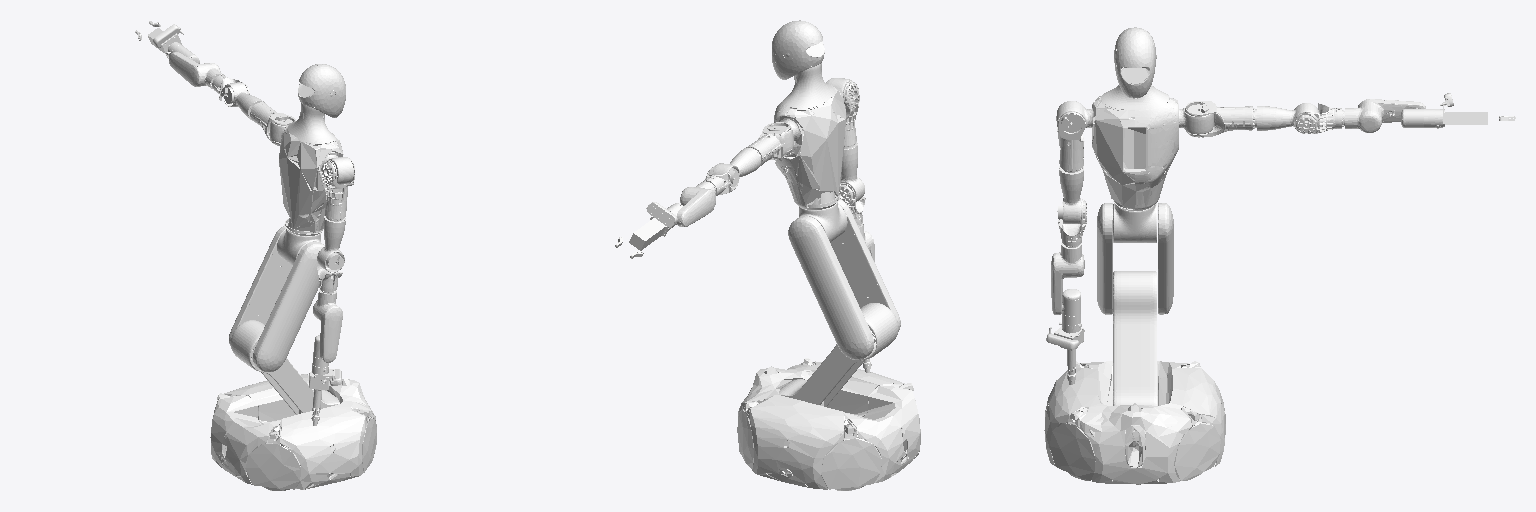
--- Render facts (derived) ---
3 views of the same robot in one strip: view 1: azimuth 30°, elevation 25°; view 2: azimuth 150°, elevation 25°; view 3: azimuth 270°, elevation 25° (orthographic).
Robot: galbot_one — 51 links, 50 joints (8 revolute, 4 prismatic, 38 fixed); root link mobile_base; default pose: all joints at 0 but 2 set to mid-range because 0 is outside their limits (left_gripper_left_joint = 0.0275, left_gripper_right_joint = 0.0275).
Links seen in each view (by area): view 1: omni_chassis_base_link, leg_link2, torso_base_link, leg_link1, head_link2, right_arm_link5, right_arm_link2, right_arm_link3, left_arm_link5, left_arm_link3, leg_link3, left_arm_link2; view 2: omni_chassis_base_link, leg_link2, torso_base_link, leg_link1, head_link2, left_arm_link5, left_arm_link2, left_arm_link3, leg_link3, right_arm_link2, right_arm_link3, left_gripper_base_link (+1 smaller); view 3: omni_chassis_base_link, torso_base_link, leg_link1, leg_link2, head_link2, left_arm_link5, leg_link3, right_arm_link5, left_arm_link2, right_arm_link3, right_arm_link2, left_arm_link3 (+5 smaller).
Link boxes in pixels (<box>): omni_chassis_base_link: <box>210,373,376,490</box>; leg_link2: <box>229,226,324,371</box>; torso_base_link: <box>279,103,343,232</box>; leg_link1: <box>231,320,339,414</box>; head_link2: <box>298,64,345,117</box>; right_arm_link5: <box>313,289,342,362</box>; right_arm_link2: <box>322,158,354,221</box>; right_arm_link3: <box>317,216,345,272</box>; left_arm_link5: <box>169,52,224,89</box>; left_arm_link3: <box>221,82,264,119</box>; leg_link3: <box>277,229,321,265</box>; left_arm_link2: <box>250,102,295,145</box>; omni_chassis_base_link: <box>737,358,920,490</box>; leg_link2: <box>788,199,900,359</box>; torso_base_link: <box>774,63,845,207</box>; leg_link1: <box>779,303,898,406</box>; head_link2: <box>772,20,824,79</box>; left_arm_link5: <box>677,181,715,226</box>; left_arm_link2: <box>746,122,791,165</box>; left_arm_link3: <box>712,148,760,190</box>; leg_link3: <box>799,199,847,242</box>; right_arm_link2: <box>826,79,859,148</box>; right_arm_link3: <box>840,142,864,201</box>; left_gripper_base_link: <box>629,218,665,250</box>; omni_chassis_base_link: <box>1044,361,1225,484</box>; torso_base_link: <box>1092,85,1178,209</box>; leg_link1: <box>1113,271,1156,449</box>; leg_link2: <box>1097,203,1173,314</box>; head_link2: <box>1114,27,1156,98</box>; left_arm_link5: <box>1345,99,1425,132</box>; leg_link3: <box>1113,203,1156,242</box>; right_arm_link5: <box>1051,243,1084,314</box>; left_arm_link2: <box>1185,101,1256,137</box>; right_arm_link3: <box>1057,166,1083,223</box>; right_arm_link2: <box>1057,112,1084,172</box>; left_arm_link3: <box>1257,103,1319,131</box>.
Bounding box of the posed robot: 0.5907 × 1.53 × 1.58 m (x, y, z).
Meshes: 32 distinct files referenced, 34 mesh visuals loaded (32 binary STL).

URDF robot description (galbot_one):
<?xml version="1.0" ?>
<!-- =================================================================================== -->
<!-- |    This document was autogenerated by xacro from urdf/galbot_one/galbot_one.xacro | -->
<!-- |    EDITING THIS FILE BY HAND IS NOT RECOMMENDED                                 | -->
<!-- =================================================================================== -->
<!-- 
#####################################################################################
#
# Copyright (c) 2023-2024 Galbot, Inc. All lefts Reserved.
#
# This software contains confidential and proprietary information of Galbot, Inc.
# ("Confidential Information"). You shall not disclose such Confidential Information
# and shall use it only in accordance with the terms of the license agreement you
# entered into with Galbot, Inc.
#
# UNAUTHORIZED COPYING, USE, OR DISTRIBUTION OF THIS SOFTWARE, OR ANY PORTION OR
# DERIVATIVE THEREOF, IS STRICTLY PROHIBITED. IF YOU HAVE RECEIVED THIS SOFTWARE IN
# ERROR, PLEASE NOTIFY GALBOT, INC. IMMEDIATELY AND DELETE IT FROM YOUR SYSTEM.
#
#####################################################################################
#
# Description: Xacro file for Galbot One.
# Author: Herman Ye@Galbot, Yuhao Zeng@Galbot
#
#####################################################################################
-->
<robot name="galbot_one">
    <!-- ROBOT -->
    <!-- Robot Base Link -->

    <link name="mobile_base">
        <!--        <inertial>-->
        <!--            <mass value="0"/>-->
        <!--            <inertia ixx="0" ixy="0" ixz="0" iyy="0" iyz="0" izz="0"/>-->
        <!--        </inertial>-->
    </link>
    <link name="base_link_x">
        <!--        <inertial>-->
        <!--            <mass value="0"/>-->
        <!--            <inertia ixx="0" ixy="0" ixz="0" iyy="0" iyz="0" izz="0"/>-->
        <!--        </inertial>-->
    </link>
    <link name="base_link_y">
        <!--        <inertial>-->
        <!--            <mass value="0"/>-->
        <!--            <inertia ixx="0" ixy="0" ixz="0" iyy="0" iyz="0" izz="0"/>-->
        <!--        </inertial>-->
    </link>
    <link name="base_link_z">
        <!--        <inertial>-->
        <!--            <mass value="0"/>-->
        <!--            <inertia ixx="0" ixy="0" ixz="0" iyy="0" iyz="0" izz="0"/>-->
        <!--        </inertial>-->
    </link>
    <joint name="mobile_x" type="prismatic">
        <origin rpy="0 0 0.0" xyz="0 0 0.0"/>
        <parent link="mobile_base"/>
        <child link="base_link_x"/>
        <axis xyz="1 0 0"/>
        <dynamics damping="10.0"/>
        <limit effort="80" lower="-5.0" upper="5.0" velocity="0.01"/>
    </joint>
    <joint name="mobile_y" type="prismatic">
        <origin rpy="0 0 0.0" xyz="0 0 0.0"/>
        <parent link="base_link_x"/>
        <child link="base_link_y"/>
        <axis xyz="0 1 0"/>
        <dynamics damping="10.0"/>
        <limit effort="80" lower="-5.0" upper="5.0" velocity="0.01"/>
    </joint>
    <joint name="mobile_yaw" type="revolute">
        <origin rpy="0 0 0.0" xyz="0 0 0.0"/>
        <parent link="base_link_y"/>
        <child link="base_link_z"/>
        <axis xyz="0 0 1"/>
        <dynamics damping="10.0"/>
        <limit effort="80" lower="-6.0" upper="6.0" velocity="4.50"/>
    </joint>
    <joint name="base_fixed" type="fixed">
        <origin rpy="0 0 0.0" xyz="0 0 0.0"/>
        <parent link="base_link_z"/>
        <child link="base_link"/>
        <axis xyz="0 0 0"/>
    </joint>


    <link name="base_link">
        <!--        <inertial>-->
        <!--            <mass value="0"/>-->
        <!--            <inertia ixx="0" ixy="0" ixz="0" iyy="0" iyz="0" izz="0"/>-->
        <!--        </inertial>-->
    </link>

    <joint name="omni_chassis_joint" type="fixed">
        <origin rpy="0 0 0" xyz="0 0 0"/>
        <parent link="base_link"/>
        <child link="omni_chassis_base_link"/>
    </joint>
    <link name="omni_chassis_base_link">
        <inertial>
            <origin rpy="0 0 0" xyz="0.00094269 0.00017452 0.09326"/>
            <mass value="800.7914"/>
            <inertia ixx="0.11584" ixy="-0.00011125" ixz="0.00045932" iyy="0.08221" iyz="2.8393E-06" izz="0.14295"/>
        </inertial>
        <visual>
            <origin rpy="0 0 0" xyz="0 0 0"/>
            <geometry>
                <mesh filename="meshes/chassis/omni_chassis_base_link.stl"/>
            </geometry>
            <material name="">
                <color rgba="1 1 1 1"/>
            </material>
        </visual>
        <collision>
            <origin rpy="0 0 0" xyz="0 0 0"/>
            <geometry>
                <mesh filename="meshes/chassis/omni_chassis_base_link.stl"/>
            </geometry>
        </collision>
    </link>
    <link name="omni_chassis_leg_mount_link"/>
    <joint name="omni_chassis_leg_mount_joint" type="fixed">
        <origin rpy="1.5707963267948966 0 0" xyz="0.134 -0.087 0.13"/>
        <parent link="omni_chassis_base_link"/>
        <child link="omni_chassis_leg_mount_link"/>
        <axis xyz="0 0 0"/>
    </joint>
    <joint name="leg_joint" type="fixed">
        <origin rpy="0 0 0" xyz="0 0 0"/>
        <parent link="omni_chassis_leg_mount_link"/>
        <child link="leg_base_link"/>
    </joint>
    <link name="leg_base_link">
        <inertial>
            <origin rpy="0 0 0" xyz="0.0027248 -0.094364 -0.050137"/>
            <mass value="10.91885"/>
            <inertia ixx="0.0043203" ixy="6.1508E-05" ixz="8.9569E-05" iyy="0.0039878" iyz="-0.0010684"
                     izz="0.0027984"/>
        </inertial>
        <visual>
            <origin rpy="0 0 0" xyz="0 0 0"/>
            <geometry>
                <mesh filename="meshes/leg/leg_base_link.stl"/>
            </geometry>
            <material name="">
                <color rgba="1 1 1 1"/>
            </material>
        </visual>
        <collision>
            <origin rpy="0 0 0" xyz="0 0 0"/>
            <geometry>
                <mesh filename="meshes/leg/leg_base_link.stl"/>
            </geometry>
        </collision>
    </link>
    <link name="leg_link1">
        <inertial>
            <origin rpy="0 0 0" xyz="0.23294 -0.0052987 0.0039698"/>
            <mass value="4.7692"/>
            <inertia ixx="0.019082" ixy="-0.0011116" ixz="0.00034191" iyy="0.16145" iyz="-6.2146E-05" izz="0.15826"/>
        </inertial>
        <visual>
            <origin rpy="0 0 0" xyz="0 0 0"/>
            <geometry>
                <mesh filename="meshes/leg/leg_link1.stl"/>
            </geometry>
            <material name="">
                <color rgba="1 1 1 1"/>
            </material>
        </visual>
        <collision>
            <origin rpy="0 0 0" xyz="0 0 0"/>
            <geometry>
                <mesh filename="meshes/leg/leg_link1.stl"/>
            </geometry>
        </collision>
    </link>
    <joint name="leg_joint1" type="fixed">
        <!-- <origin rpy="-3.141592653589793 0 2.756573021" xyz="0 0 -0.087"/> -->
        <origin rpy="-3.141592653589793 0 2.259573021" xyz="0 0 -0.087"/>
        <parent link="leg_base_link"/>
        <child link="leg_link1"/>
        <!-- <axis xyz="0 0 1"/>
        <limit effort="169" lower="0" upper="0.994837674" velocity="2.3"/> -->
    </joint>
    <link name="leg_link2">
        <inertial>
            <origin rpy="0 0 0" xyz="0.19637 2.4915E-06 0.0034234"/>
            <mass value="10.6233"/>
            <inertia ixx="0.0054462" ixy="-2.1435E-06" ixz="-2.9611E-05" iyy="0.066819" iyz="5.2347E-08"
                     izz="0.071791"/>
        </inertial>
        <visual>
            <origin rpy="0 0 0" xyz="0 0 0"/>
            <geometry>
                <mesh filename="meshes/leg/leg_link2.stl"/>
            </geometry>
            <material name="">
                <color rgba="1 1 1 1"/>
            </material>
        </visual>
        <collision>
            <origin rpy="0 0 0" xyz="0 0 0"/>
            <geometry>
                <mesh filename="meshes/leg/leg_link2.stl"/>
            </geometry>
        </collision>
    </link>
    <joint name="leg_joint2" type="fixed">
        <!-- <origin rpy="-3.141592653589793 0 2.756573021" xyz="0.45 0 0"/> -->
        <origin rpy="-3.141592653589793 0 1.185573021" xyz="0.45 0 0"/>
        <parent link="leg_link1"/>
        <child link="leg_link2"/>
        <!-- <axis xyz="0 0 1"/>
        <limit effort="169" lower="0" upper="3.141592654" velocity="2.3"/> -->
    </joint>
    <link name="leg_link3">
        <inertial>
            <origin rpy="0 0 0" xyz="-1.1016E-05 0.012237 0.0042074"/>
            <mass value="10.7624"/>
            <inertia ixx="0.006745" ixy="-4.1776E-07" ixz="8.7932E-07" iyy="0.0066437" iyz="9.063E-05" izz="0.0073862"/>
        </inertial>
        <visual>
            <origin rpy="0 0 0" xyz="0 0 0"/>
            <geometry>
                <mesh filename="meshes/leg/leg_link3.stl"/>
            </geometry>
            <material name="">
                <color rgba="1 1 1 1"/>
            </material>
        </visual>
        <collision>
            <origin rpy="0 0 0" xyz="0 0 0"/>
            <geometry>
                <mesh filename="meshes/leg/leg_link3.stl"/>
            </geometry>
        </collision>
    </link>
    <joint name="leg_joint3" type="fixed">
        <!-- <origin rpy="-3.141592653589793 0 -3.141592653589793" xyz="0.39 0 0"/> -->
        <origin rpy="-3.141592653589793 0 1.9635926535897932" xyz="0.39 0 0"/>
        <parent link="leg_link2"/>
        <child link="leg_link3"/>
        <axis xyz="0 0 1"/>
        <limit effort="84" lower="0" upper="2.35619449" velocity="2.83"/>
    </joint>
    <link name="leg_link4">
        <inertial>
            <origin rpy="0 0 0" xyz="5.7927E-05 -3.0701E-05 0.15111"/>
            <mass value="0.37584"/>
            <inertia ixx="10.00049514" ixy="-3.0213E-07" ixz="-3.9055E-09" iyy="0.00051468" iyz="1.3486E-09"
                     izz="0.00084078"/>
        </inertial>
        <visual>
            <origin rpy="0 0 0" xyz="0 0 0"/>
            <geometry>
                <mesh filename="meshes/leg/leg_link4.stl"/>
            </geometry>
            <material name="">
                <color rgba="1 1 1 1"/>
            </material>
        </visual>
        <collision>
            <origin rpy="0 0 0" xyz="0 0 0"/>
            <geometry>
                <mesh filename="meshes/leg/leg_link4.stl"/>
            </geometry>
        </collision>
    </link>
    <joint name="leg_joint4" type="fixed">
        <origin rpy="1.5707963267948966 0 -3.141592653589793" xyz="0 0 0"/>
        <parent link="leg_link3"/>
        <child link="leg_link4"/>
        <!-- <axis xyz="0 0 1"/>
        <limit effort="20" lower="-1.570796327" upper="1.570796327" velocity="3.56"/> -->
    </joint>
    <link name="leg_torso_mount_link"/>
    <joint name="leg_torso_mount_joint" type="fixed">
        <origin rpy="0 0 0" xyz="0 0 0"/>
        <parent link="leg_link4"/>
        <child link="leg_torso_mount_link"/>
        <axis xyz="0 0 0"/>
    </joint>
    <joint name="torso_joint" type="fixed">
        <origin rpy="0 0 0" xyz="0 0 0"/>
        <parent link="leg_torso_mount_link"/>
        <child link="torso_base_link"/>
    </joint>
    <link name="torso_base_link">
        <inertial>
            <origin rpy="0 0 0" xyz="0.009452 -0.0097068 -0.041989"/>
            <mass value="10.5697"/>
            <inertia ixx="0.018397" ixy="-6.5897E-07" ixz="0.00030036" iyy="0.013058" iyz="0.00016843" izz="0.0082332"/>
        </inertial>
        <visual>
            <origin rpy="0 0 0" xyz="0 0 0"/>
            <geometry>
                <mesh filename="meshes/torso/torso_base_link.stl"/>
            </geometry>
            <material name="">
                <color rgba="1 1 1 1"/>
            </material>
        </visual>
        <collision>
            <origin rpy="0 0 0" xyz="0 0 0"/>
            <geometry>
                <mesh filename="meshes/torso/torso_base_link.stl"/>
            </geometry>
        </collision>
    </link>
    <!-- Head Mount -->
    <link name="torso_head_mount_link"/>
    <joint name="torso_head_mount_joint" type="fixed">
        <origin rpy="0 0 0" xyz="-0.0081669 5E-05 0.51594"/>
        <parent link="torso_base_link"/>
        <child link="torso_head_mount_link"/>
        <axis xyz="0 0 0"/>
    </joint>
    <!-- Right Arm Mount -->
    <link name="torso_right_arm_mount_link"/>
    <joint name="torso_right_arm_mount_joint" type="fixed">
        <origin rpy="1.5707963267948966 0 0" xyz="0 -0.13 0.39599"/>
        <parent link="torso_base_link"/>
        <child link="torso_right_arm_mount_link"/>
        <axis xyz="0 0 0"/>
    </joint>
    <!-- Left Arm Mount -->
    <link name="torso_left_arm_mount_link"/>
    <joint name="torso_left_arm_mount_joint" type="fixed">
        <origin rpy="1.5707963267948966 0 3.141592653589793" xyz="0 0.13 0.39599"/>
        <parent link="torso_base_link"/>
        <child link="torso_left_arm_mount_link"/>
        <axis xyz="0 0 0"/>
    </joint>
    <joint name="head_joint" type="fixed">
        <origin rpy="0 0 0" xyz="0 0 0"/>
        <parent link="torso_head_mount_link"/>
        <child link="head_base_link"/>
    </joint>
    <link name="head_base_link">
        <!--        <inertial>-->
        <!--            <origin rpy="0 0 0" xyz="0.009452 -0.0097068 -0.16194"/>-->
        <!--            <mass value="1.5697"/>-->
        <!--            <inertia ixx="0.018397" ixy="-6.5897E-07" ixz="0.00030036" iyy="0.013058" iyz="0.00016843" izz="0.0082332"/>-->
        <!--        </inertial>-->
        <visual>
            <origin rpy="0 0 0" xyz="0 0 0"/>
            <geometry>
                <mesh filename="meshes/head/head_base_link.stl"/>
            </geometry>
            <material name="">
                <color rgba="1 1 1 1"/>
            </material>
        </visual>
        <collision>
            <origin rpy="0 0 0" xyz="0 0 0"/>
            <geometry>
                <mesh filename="meshes/head/head_base_link.stl"/>
            </geometry>
        </collision>
    </link>
    <link name="head_link1">
        <!--        <inertial>-->
        <!--            <origin rpy="0 0 0" xyz="0 0.020487 -0.038531"/>-->
        <!--            <mass value="0.067654"/>-->
        <!--            <inertia ixx="6.0514E-05" ixy="9.335E-21" ixz="-2.5793E-20" iyy="6.6478E-05" iyz="-1.3077E-05"-->
        <!--                     izz="2.4032E-05"/>-->
        <!--        </inertial>-->
        <visual>
            <origin rpy="0 0 0" xyz="0 0 0"/>
            <geometry>
                <mesh filename="meshes/head/head_link1.stl"/>
            </geometry>
            <material name="">
                <color rgba="1 1 1 1"/>
            </material>
        </visual>
        <collision>
            <origin rpy="0 0 0" xyz="0 0 0"/>
            <geometry>
                <mesh filename="meshes/head/head_link1.stl"/>
            </geometry>
        </collision>
    </link>
    <joint name="head_joint1" type="fixed">
        <origin rpy="0 0 0" xyz="0 0 0.068"/>
        <parent link="head_base_link"/>
        <child link="head_link1"/>
        <!-- <axis xyz="0 0 1"/>
        <limit effort="4" lower="-1.570796327" upper="1.570796327" velocity="8.38"/> -->
    </joint>
    <link name="head_link2">
        <!--        <inertial>-->
        <!--            <origin rpy="0 0 0" xyz="0.024473 -0.053558 0.0026343"/>-->
        <!--            <mass value="0.34019"/>-->
        <!--            <inertia ixx="0.0011508" ixy="-0.00026177" ixz="-4.0924E-07" iyy="0.00085046" iyz="1.4953E-08"-->
        <!--                     izz="0.0010147"/>-->
        <!--        </inertial>-->
        <visual>
            <origin rpy="0 0 0" xyz="0 0 0"/>
            <geometry>
                <mesh filename="meshes/head/head_link2.stl"/>
            </geometry>
            <material name="">
                <color rgba="1 1 1 1"/>
            </material>
        </visual>
        <collision>
            <origin rpy="0 0 0" xyz="0 0 0"/>
            <geometry>
                <mesh filename="meshes/head/head_link2.stl"/>
            </geometry>
        </collision>
    </link>
    <joint name="head_joint2" type="fixed">
        <origin rpy="-1.5707963267948966 0 0" xyz="0 0 0"/>
        <parent link="head_link1"/>
        <child link="head_link2"/>
        <!-- <axis xyz="0 0 1"/>
        <limit effort="4" lower="-0.366519143" upper="0.366519143" velocity="8.38"/> -->
    </joint>
    <joint name="right_arm_joint" type="fixed">
        <origin rpy="0 0 0" xyz="0 0 0"/>
        <parent link="torso_right_arm_mount_link"/>
        <child link="right_arm_base_link"/>
    </joint>
    <link name="right_arm_base_link">
        <!--        <inertial>-->
        <!--            <origin rpy="0 0 0" xyz="-0.000533006129660687 0.000198297061670072 -0.0301844828757755"/>-->
        <!--            <mass value="1.10147619180644"/>-->
        <!--            <inertia ixx="0.000565108607160801" ixy="3.47222948820335E-06" ixz="-1.99104558319723E-05"-->
        <!--                     iyy="0.000573095012457538" iyz="7.38740833192177E-06" izz="0.000685130221778769"/>-->
        <!--        </inertial>-->
        <visual>
            <origin rpy="0 0 0" xyz="0 0 0"/>
            <geometry>
                <mesh filename="meshes/arm/right_arm_base_link.stl"/>
            </geometry>
            <material name="">
                <color rgba="1 1 1 1"/>
            </material>
        </visual>
        <collision>
            <origin rpy="0 0 0" xyz="0 0 0"/>
            <geometry>
                <mesh filename="meshes/arm/right_arm_base_link.stl"/>
            </geometry>
        </collision>
    </link>
    <link name="right_arm_link1">
        <!--        <inertial>-->
        <!--            <origin rpy="0 0 0" xyz="3.49009164621467E-05 0.0108339687508697 -0.00355285779638756"/>-->
        <!--            <mass value="1.50298216561586"/>-->
        <!--            <inertia ixx="0.00141484199510697" ixy="1.78602050106263E-06" ixz="-8.63528107802525E-07"-->
        <!--                     iyy="0.00177403869249562" iyz="5.86035752669724E-06" izz="0.00110206097229515"/>-->
        <!--        </inertial>-->
        <visual>
            <origin rpy="0 0 0" xyz="0 0 0"/>
            <geometry>
                <mesh filename="meshes/arm/right_arm_link1.stl"/>
            </geometry>
            <material name="">
                <color rgba="1 1 1 1"/>
            </material>
        </visual>
        <collision>
            <origin rpy="0 0 0" xyz="0 0 0"/>
            <geometry>
                <mesh filename="meshes/arm/right_arm_link1.stl"/>
            </geometry>
        </collision>
    </link>
    <joint name="right_arm_joint1" type="fixed">
        <!-- <origin rpy="0 0 0" xyz="0 0 0.076"/> -->
        <origin rpy="0 0 -1.571" xyz="0 0 0.076"/>
        <parent link="right_arm_base_link"/>
        <child link="right_arm_link1"/>
        <!-- <axis xyz="0 0 1"/>
        <limit effort="60" lower="-3.141592654" upper="3.141592654" velocity="0.01"/> -->
    </joint>
    <link name="right_arm_link2">
        <!--        <inertial>-->
        <!--            <origin rpy="0 0 0" xyz="-0.0011542937189659 -0.125918427333295 0.00403909337671848"/>-->
        <!--            <mass value="1.45678998733303"/>-->
        <!--            <inertia ixx="0.00269801896410487" ixy="4.63119567548212E-05" ixz="-1.77748665814381E-05"-->
        <!--                     iyy="0.00131692955308753" iyz="-0.000382862812261171" izz="0.00264831680492027"/>-->
        <!--        </inertial>-->
        <visual>
            <origin rpy="0 0 0" xyz="0 0 0"/>
            <geometry>
                <mesh filename="meshes/arm/right_arm_link2.stl"/>
            </geometry>
            <material name="">
                <color rgba="1 1 1 1"/>
            </material>
        </visual>
        <collision>
            <origin rpy="0 0 0" xyz="0 0 0"/>
            <geometry>
                <mesh filename="meshes/arm/right_arm_link2.stl"/>
            </geometry>
        </collision>
    </link>
    <joint name="right_arm_joint2" type="fixed">
        <!-- <origin rpy="-1.5707963267948966 0 3.141592653589793" xyz="0 0 0"/> -->
        <origin rpy="1.5707963267935339 -1.5705926535881751 0" xyz="0 0 0"/>
        <parent link="right_arm_link1"/>
        <child link="right_arm_link2"/>
        <!-- <axis xyz="0 0 1"/>
        <limit effort="60" lower="-2.1" upper="1.570796327" velocity="0.01"/> -->
    </joint>
    <link name="right_arm_link3">
        <!--        <inertial>-->
        <!--            <origin rpy="0 0 0" xyz="0.000352305768300032 -0.00726519320891149 -0.0216211172275835"/>-->
        <!--            <mass value="1.19882450635199"/>-->
        <!--            <inertia ixx="0.00220937810713451" ixy="-1.39043584660172E-05" ixz="1.48996603867525E-06"-->
        <!--                     iyy="0.00236018741531392" iyz="4.46418780437893E-05" izz="0.000843927012398976"/>-->
        <!--        </inertial>-->
        <visual>
            <origin rpy="0 0 0" xyz="0 0 0"/>
            <geometry>
                <mesh filename="meshes/arm/right_arm_link3.stl"/>
            </geometry>
            <material name="">
                <color rgba="1 1 1 1"/>
            </material>
        </visual>
        <collision>
            <origin rpy="0 0 0" xyz="0 0 0"/>
            <geometry>
                <mesh filename="meshes/arm/right_arm_link3.stl"/>
            </geometry>
        </collision>
    </link>
    <joint name="right_arm_joint3" type="fixed">
        <origin rpy="1.5707963267948966 1.5707963267948966 0" xyz="0 -0.35 0"/>
        <parent link="right_arm_link2"/>
        <child link="right_arm_link3"/>
        <!-- <axis xyz="0 0 1"/>
        <limit effort="20" lower="-3.141592654" upper="3.141592654" velocity="0.01"/> -->
    </joint>
    <link name="right_arm_link4">
        <!--        <inertial>-->
        <!--            <origin rpy="0 0 0" xyz="1.5931431873728E-07 -0.084100166334916 0.0032662830921263"/>-->
        <!--            <mass value="0.867364365948374"/>-->
        <!--            <inertia ixx="0.000877887383976985" ixy="1.06944001020881E-08" ixz="-1.42122359084054E-07"-->
        <!--                     iyy="0.000585386964708275" iyz="-0.000142796694938426" izz="0.000827176121025835"/>-->
        <!--        </inertial>-->
        <visual>
            <origin rpy="0 0 0" xyz="0 0 0"/>
            <geometry>
                <mesh filename="meshes/arm/right_arm_link4.stl"/>
            </geometry>
            <material name="">
                <color rgba="1 1 1 1"/>
            </material>
        </visual>
        <collision>
            <origin rpy="0 0 0" xyz="0 0 0"/>
            <geometry>
                <mesh filename="meshes/arm/right_arm_link4.stl"/>
            </geometry>
        </collision>
    </link>
    <joint name="right_arm_joint4" type="fixed">
        <origin rpy="-1.5707963267948966 0 3.141592653589793" xyz="0 0 0"/>
        <parent link="right_arm_link3"/>
        <child link="right_arm_link4"/>
        <!-- <axis xyz="0 0 1"/>
        <limit effort="20" lower="-2.1" upper="2.1" velocity="0.01"/> -->
    </joint>
    <link name="right_arm_link5">
        <!--        <inertial>-->
        <!--            <origin rpy="0 0 0" xyz="-1.30340366499837E-06 0.0256418767190977 -0.117743286278551"/>-->
        <!--            <mass value="1.39256420094548"/>-->
        <!--            <inertia ixx="0.00316702853902255" ixy="7.21162282210242E-08" ixz="-1.52177542728743E-07"-->
        <!--                     iyy="0.00325737339135618" iyz="-0.000396176140685722" izz="0.000888812918742085"/>-->
        <!--        </inertial>-->
        <visual>
            <origin rpy="0 0 0" xyz="0 0 0"/>
            <geometry>
                <mesh filename="meshes/arm/right_arm_link5.stl"/>
            </geometry>
            <material name="">
                <color rgba="1 1 1 1"/>
            </material>
        </visual>
        <collision>
            <origin rpy="0 0 0" xyz="0 0 0"/>
            <geometry>
                <mesh filename="meshes/arm/right_arm_link5.stl"/>
            </geometry>
        </collision>
    </link>
    <joint name="right_arm_joint5" type="fixed">
        <origin rpy="1.5707963267948966 0 0" xyz="0 -0.36 0"/>
        <parent link="right_arm_link4"/>
        <child link="right_arm_link5"/>
        <!-- <axis xyz="0 0 1"/>
        <limit effort="20" lower="-3.141592654" upper="3.141592654" velocity="0.01"/> -->
    </joint>
    <link name="right_arm_link6">
        <!--        <inertial>-->
        <!--            <origin rpy="0 0 0" xyz="-2.88922358060439E-06 -0.000979379563628591 -1.95950029232006E-05"/>-->
        <!--            <mass value="0.574328152865271"/>-->
        <!--            <inertia ixx="0.000196239414479137" ixy="-4.42040670473688E-09" ixz="-2.96256099677375E-08"-->
        <!--                     iyy="0.00023336393089217" iyz="-6.88062986985096E-08" izz="0.000196560460694031"/>-->
        <!--        </inertial>-->
        <visual>
            <origin rpy="0 0 0" xyz="0 0 0"/>
            <geometry>
                <mesh filename="meshes/arm/right_arm_link6.stl"/>
            </geometry>
            <material name="">
                <color rgba="1 1 1 1"/>
            </material>
        </visual>
        <collision>
            <origin rpy="0 0 0" xyz="0 0 0"/>
            <geometry>
                <mesh filename="meshes/arm/right_arm_link6.stl"/>
            </geometry>
        </collision>
    </link>
    <joint name="right_arm_joint6" type="fixed">
        <origin rpy="-1.5707963267948966 0 3.141592653589793" xyz="0 0 0"/>
        <parent link="right_arm_link5"/>
        <child link="right_arm_link6"/>
        <!-- <axis xyz="0 0 1"/>
        <limit effort="20" lower="-1.570796327" upper="1.570796327" velocity="0.01"/> -->
    </joint>
    <link name="right_arm_link7">
        <!--        <inertial>-->
        <!--            <origin rpy="0 0 0" xyz="0.000145324653036516 0.000669639293546548 0.0517788732710871"/>-->
        <!--            <mass value="0.271983892475789"/>-->
        <!--            <inertia ixx="9.12795880546355E-05" ixy="-3.70484062161125E-07" ixz="3.02036543797804E-07"-->
        <!--                     iyy="9.01051818347072E-05" iyz="-2.27095800634144E-07" izz="0.00015076316927533"/>-->
        <!--        </inertial>-->
        <visual>
            <origin rpy="0 0 0" xyz="0 0 0"/>
            <geometry>
                <mesh filename="meshes/arm/right_arm_link7.stl"/>
            </geometry>
            <material name="">
                <color rgba="1 1 1 1"/>
            </material>
        </visual>
        <collision>
            <origin rpy="0 0 0" xyz="0 0 0"/>
            <geometry>
                <mesh filename="meshes/arm/right_arm_link7.stl"/>
            </geometry>
        </collision>
    </link>
    <joint name="right_arm_joint7" type="fixed">
        <origin rpy="-1.5707963267948966 3.141592653589793 3.141592653589793" xyz="0 0 0"/>
        <parent link="right_arm_link6"/>
        <child link="right_arm_link7"/>
        <!-- <axis xyz="0 0 1"/>
        <limit effort="20" lower="-3.141592654" upper="3.141592654" velocity="0.01"/> -->
    </joint>
    <link name="right_arm_end_effector_mount_link"/>
    <joint name="right_arm_end_effector_mount_joint" type="fixed">
        <origin rpy="0 0 0" xyz="0 0 0.0845"/>
        <parent link="right_arm_link7"/>
        <child link="right_arm_end_effector_mount_link"/>
        <axis xyz="0 0 0"/>
    </joint>
    <joint name="right_flange_joint" type="fixed">
        <origin rpy="0 0 0.523598776" xyz="0 0 0"/>
        <parent link="right_arm_end_effector_mount_link"/>
        <child link="right_flange_base_link"/>
    </joint>
    <link name="right_flange_base_link">
        <!--        <inertial>-->
        <!--            <origin rpy="0 0 0" xyz="0.052829 -0.00096484 0.013285"/>-->
        <!--            <mass value="0.25733"/>-->
        <!--            <inertia ixx="0.0002175" ixy="-2.5433E-06" ixz="4.0586E-06" iyy="5.3894E-05" iyz="-1.8533E-06"-->
        <!--                     izz="0.00025319"/>-->
        <!--        </inertial>-->
        <visual>
            <origin rpy="0 0 0" xyz="0 0 0"/>
            <geometry>
                <mesh filename="meshes/flange/flange_base_link.stl"/>
            </geometry>
            <material name="">
                <color rgba="1 1 1 1"/>
            </material>
        </visual>
        <collision>
            <origin rpy="0 0 0" xyz="0 0 0"/>
            <geometry>
                <mesh filename="meshes/flange/flange_base_link.stl"/>
            </geometry>
        </collision>
    </link>
    <link name="right_flange_mount_link"/>
    <joint name="right_flange_mount_joint" type="fixed">
        <origin rpy="0 0 0" xyz="0 0 0.006"/>
        <parent link="right_flange_base_link"/>
        <child link="right_flange_mount_link"/>
        <axis xyz="0 0 0"/>
    </joint>
    <joint name="right_arm_camera_joint" type="fixed">
        <origin rpy="3.1415926 -1.308996939 0" xyz="0.0526 -0.02 0.02054"/>
        <parent link="right_flange_base_link"/>
        <child link="right_arm_camera_flange_link"/>
    </joint>
    <link name="right_arm_camera_flange_link">
        <!--        <inertial>-->
        <!--            <origin rpy="0 0 0" xyz="0.052829 -0.00096484 0.013285"/>-->
        <!--            <mass value="0.25733"/>-->
        <!--            <inertia ixx="0.0002175" ixy="-2.5433E-06" ixz="4.0586E-06" iyy="5.3894E-05" iyz="-1.8533E-06"-->
        <!--                     izz="0.00025319"/>-->
        <!--        </inertial>-->
        <visual>
            <origin rpy="0 0 0" xyz="0 0 0"/>
            <geometry>
                <mesh filename="meshes/camera/arm_camera.stl"/>
            </geometry>
            <material name="">
                <color rgba="1 1 1 1"/>
            </material>
        </visual>
        <collision>
            <origin rpy="0 0 0" xyz="0 0 0"/>
            <geometry>
                <mesh filename="meshes/camera/arm_camera.stl"/>
            </geometry>
        </collision>
    </link>
    <joint name="right_suction_cup_joint" type="fixed">
        <origin rpy="0 0 0" xyz="0 0 0"/>
        <parent link="right_flange_mount_link"/>
        <child link="right_suction_cup_base_link"/>
    </joint>
    <link name="right_suction_cup_base_link">
        <!--        <inertial>-->
        <!--            <origin rpy="0 0 0" xyz="-4.0035E-05 -0.00015919 0.065665"/>-->
        <!--            <mass value="0.36941"/>-->
        <!--            <inertia ixx="0.00014564" ixy="3.5459E-07" ixz="-1.2386E-07" iyy="0.00016918" iyz="-4.0084E-07"-->
        <!--                     izz="0.000219"/>-->
        <!--        </inertial>-->
        <visual>
            <origin rpy="0 0 0" xyz="0 0 0"/>
            <geometry>
                <mesh filename="meshes/suction_cup/suction_cup_base_link.stl"/>
            </geometry>
            <material name="">
                <color rgba="1 1 1 1"/>
            </material>
        </visual>
        <collision>
            <origin rpy="0 0 0" xyz="0 0 0"/>
            <geometry>
                <mesh filename="meshes/suction_cup/suction_cup_base_link.stl"/>
            </geometry>
        </collision>
    </link>
    <link name="right_suction_cup_link1">
        <!--        <inertial>-->
        <!--            <origin rpy="0 0 0" xyz="0.037966 -3.0191E-05 -4.2414E-08"/>-->
        <!--            <mass value="0.063856"/>-->
        <!--            <inertia ixx="7.1717E-06" ixy="1.7711E-08" ixz="-3.6994E-11" iyy="8.0256E-06" iyz="4.7383E-09"-->
        <!--                     izz="7.78E-06"/>-->
        <!--        </inertial>-->
        <visual>
            <origin rpy="0 0 0" xyz="0 0 0"/>
            <geometry>
                <mesh filename="meshes/suction_cup/suction_cup_link1.stl"/>
            </geometry>
            <material name="">
                <color rgba="1 1 1 1"/>
            </material>
        </visual>
        <collision>
            <origin rpy="0 0 0" xyz="0 0 0"/>
            <geometry>
                <mesh filename="meshes/suction_cup/suction_cup_link1.stl"/>
            </geometry>
        </collision>
    </link>
    <joint name="right_suction_cup_joint1" type="fixed">
        <origin rpy="1.5707963267948966 0 -1.5707963267948966" xyz="0 0 0.145"/>
        <parent link="right_suction_cup_base_link"/>
        <child link="right_suction_cup_link1"/>
        <!-- <axis xyz="0 0 1"/>
        <limit effort="1" lower="0" upper="1.570796327" velocity="1.570796327"/> -->
    </joint>
    <link name="right_suction_cup_tcp_link"/>
    <joint name="right_suction_cup_tcp_joint" type="fixed">
        <origin rpy="1.5707963267948966 1.5707963267948966 3.141592653589793" xyz="0 0.079807 0"/>
        <parent link="right_suction_cup_link1"/>
        <child link="right_suction_cup_tcp_link"/>
        <axis xyz="0 0 0"/>
    </joint>
    <joint name="left_arm_joint" type="fixed">
        <origin rpy="0 0 0" xyz="0 0 0"/>
        <parent link="torso_left_arm_mount_link"/>
        <child link="left_arm_base_link"/>
    </joint>
    <link name="left_arm_base_link">
        <inertial>
            <origin rpy="0 0 0" xyz="0.00056868 -5.0139E-06 -0.030184"/>
            <mass value="20.1015"/>
            <inertia ixx="0.00056381" ixy="1.1123E-07" ixz="2.1236E-05" iyy="0.00057439" iyz="-1.685E-07"
                     izz="0.00068513"/>
        </inertial>
        <visual>
            <origin rpy="0 0 0" xyz="0 0 0"/>
            <geometry>
                <mesh filename="meshes/arm/left_arm_base_link.stl"/>
            </geometry>
            <material name="">
                <color rgba="1 1 1 1"/>
            </material>
        </visual>
        <collision>
            <origin rpy="0 0 0" xyz="0 0 0"/>
            <geometry>
                <mesh filename="meshes/arm/left_arm_base_link.stl"/>
            </geometry>
        </collision>
    </link>
    <link name="left_arm_link1">
        <inertial>
            <origin rpy="0 0 0" xyz="-3.4901E-05 -0.010834 -0.0035529"/>
            <mass value="10.503"/>
            <inertia ixx="0.0014148" ixy="1.786E-06" ixz="8.6353E-07" iyy="0.001774" iyz="-5.8604E-06" izz="0.0011021"/>
        </inertial>
        <visual>
            <origin rpy="0 0 0" xyz="0 0 0"/>
            <geometry>
                <mesh filename="meshes/arm/left_arm_link1.stl"/>
            </geometry>
            <material name="">
                <color rgba="1 1 1 1"/>
            </material>
        </visual>
        <collision>
            <origin rpy="0 0 0" xyz="0 0 0"/>
            <geometry>
                <mesh filename="meshes/arm/left_arm_link1.stl"/>
            </geometry>
        </collision>
    </link>
    <joint name="left_arm_joint1" type="revolute">
        <origin rpy="0 0 0" xyz="0 0 0.076"/>
        <parent link="left_arm_base_link"/>
        <child link="left_arm_link1"/>
        <axis xyz="0 0 1"/>
        <limit effort="60" lower="-3.141592654" upper="3.141592654" velocity="0.01"/>
    </joint>
    <link name="left_arm_link2">
        <inertial>
            <origin rpy="0 0 0" xyz="0.0011543 0.12592 0.0040391"/>
            <mass value="10.4568"/>
            <inertia ixx="0.002698" ixy="4.6312E-05" ixz="1.7775E-05" iyy="0.0013169" iyz="0.00038286" izz="0.0026483"/>
        </inertial>
        <visual>
            <origin rpy="0 0 0" xyz="0 0 0"/>
            <geometry>
                <mesh filename="meshes/arm/left_arm_link2.stl"/>
            </geometry>
            <material name="">
                <color rgba="1 1 1 1"/>
            </material>
        </visual>
        <collision>
            <origin rpy="0 0 0" xyz="0 0 0"/>
            <geometry>
                <mesh filename="meshes/arm/left_arm_link2.stl"/>
            </geometry>
        </collision>
    </link>
    <joint name="left_arm_joint2" type="revolute">
        <origin rpy="-1.5707963267948966 0 3.141592653589793" xyz="0 0 0"/>
        <parent link="left_arm_link1"/>
        <child link="left_arm_link2"/>
        <axis xyz="0 0 1"/>
        <limit effort="60" lower="-1.570796327" upper="2.1" velocity="0.01"/>
    </joint>
    <link name="left_arm_link3">
        <inertial>
            <origin rpy="0 0 0" xyz="0.00035231 -0.0072652 -0.021621"/>
            <mass value="10.1988"/>
            <inertia ixx="0.0022094" ixy="-1.3904E-05" ixz="1.4901E-06" iyy="0.0023602" iyz="4.4642E-05"
                     izz="0.00084393"/>
        </inertial>
        <visual>
            <origin rpy="0 0 0" xyz="0 0 0"/>
            <geometry>
                <mesh filename="meshes/arm/left_arm_link3.stl"/>
            </geometry>
            <material name="">
                <color rgba="1 1 1 1"/>
            </material>
        </visual>
        <collision>
            <origin rpy="0 0 0" xyz="0 0 0"/>
            <geometry>
                <mesh filename="meshes/arm/left_arm_link3.stl"/>
            </geometry>
        </collision>
    </link>
    <joint name="left_arm_joint3" type="revolute">
        <origin rpy="1.5707963267948966 -1.5707963267948966 0" xyz="0 -0.35 0"/>
        <parent link="left_arm_link2"/>
        <child link="left_arm_link3"/>
        <axis xyz="0 0 1"/>
        <limit effort="20" lower="-3.141592654" upper="3.141592654" velocity="0.01"/>
    </joint>
    <link name="left_arm_link4">
        <inertial>
            <origin rpy="0 0 0" xyz="1.6053E-07 -0.0841 0.0032663"/>
            <mass value="10.86736"/>
            <inertia ixx="0.00087789" ixy="1.0686E-08" ixz="-1.4208E-07" iyy="0.00058539" iyz="-0.0001428"
                     izz="0.00082718"/>
        </inertial>
        <visual>
            <origin rpy="0 0 0" xyz="0 0 0"/>
            <geometry>
                <mesh filename="meshes/arm/left_arm_link4.stl"/>
            </geometry>
            <material name="">
                <color rgba="1 1 1 1"/>
            </material>
        </visual>
        <collision>
            <origin rpy="0 0 0" xyz="0 0 0"/>
            <geometry>
                <mesh filename="meshes/arm/left_arm_link4.stl"/>
            </geometry>
        </collision>
    </link>
    <joint name="left_arm_joint4" type="revolute">
        <origin rpy="-1.5707963267948966 0 3.141592653589793" xyz="0 0 0"/>
        <parent link="left_arm_link3"/>
        <child link="left_arm_link4"/>
        <axis xyz="0 0 1"/>
        <limit effort="20" lower="-2.1" upper="2.1" velocity="0.01"/>
    </joint>
    <link name="left_arm_link5">
        <inertial>
            <origin rpy="0 0 0" xyz="1.5971E-06 -0.025642 -0.11774"/>
            <mass value="3.3926"/>
            <inertia ixx="0.003167" ixy="8.3315E-08" ixz="1.4879E-07" iyy="0.0032574" iyz="0.00039617"
                     izz="0.00088879"/>
        </inertial>
        <visual>
            <origin rpy="0 0 0" xyz="0 0 0"/>
            <geometry>
                <mesh filename="meshes/arm/left_arm_link5.stl"/>
            </geometry>
            <material name="">
                <color rgba="1 1 1 1"/>
            </material>
        </visual>
        <collision>
            <origin rpy="0 0 0" xyz="0 0 0"/>
            <geometry>
                <mesh filename="meshes/arm/left_arm_link5.stl"/>
            </geometry>
        </collision>
    </link>
    <joint name="left_arm_joint5" type="revolute">
        <origin rpy="1.5707963267948966 0 0" xyz="0 -0.36 0"/>
        <parent link="left_arm_link4"/>
        <child link="left_arm_link5"/>
        <axis xyz="0 0 1"/>
        <limit effort="20" lower="-3.141592654" upper="3.141592654" velocity="0.01"/>
    </joint>
    <link name="left_arm_link6">
        <inertial>
            <origin rpy="0 0 0" xyz="-2.8892E-06 -0.00097938 -1.9595E-05"/>
            <mass value="0.57433"/>
            <inertia ixx="0.00019624" ixy="-4.4204E-09" ixz="-2.9626E-08" iyy="0.00023336" iyz="-6.8806E-08"
                     izz="0.00019656"/>
        </inertial>
        <visual>
            <origin rpy="0 0 0" xyz="0 0 0"/>
            <geometry>
                <mesh filename="meshes/arm/left_arm_link6.stl"/>
            </geometry>
            <material name="">
                <color rgba="1 1 1 1"/>
            </material>
        </visual>
        <collision>
            <origin rpy="0 0 0" xyz="0 0 0"/>
            <geometry>
                <mesh filename="meshes/arm/left_arm_link6.stl"/>
            </geometry>
        </collision>
    </link>
    <joint name="left_arm_joint6" type="revolute">
        <origin rpy="-1.5707963267948966 0 3.141592653589793" xyz="0 0 0"/>
        <parent link="left_arm_link5"/>
        <child link="left_arm_link6"/>
        <axis xyz="0 0 1"/>
        <limit effort="20" lower="-1.570796327" upper="1.570796327" velocity="0.01"/>
    </joint>
    <link name="left_arm_link7">
        <inertial>
            <origin rpy="0 0 0" xyz="0.00014532 0.00066964 0.051779"/>
            <mass value="2.27198"/>
            <inertia ixx="9.128E-05" ixy="-3.7048E-07" ixz="3.0204E-07" iyy="9.0105E-05" iyz="-2.2709E-07"
                     izz="0.00015076"/>
        </inertial>
        <visual>
            <origin rpy="0 0 0" xyz="0 0 0"/>
            <geometry>
                <mesh filename="meshes/arm/left_arm_link7.stl"/>
            </geometry>
            <material name="">
                <color rgba="1 1 1 1"/>
            </material>
        </visual>
        <collision>
            <origin rpy="0 0 0" xyz="0 0 0"/>
            <geometry>
                <mesh filename="meshes/arm/left_arm_link7.stl"/>
            </geometry>
        </collision>
    </link>
    <joint name="left_arm_joint7" type="revolute">
        <origin rpy="1.5707963267948966 0 0" xyz="0 0 0"/>
        <parent link="left_arm_link6"/>
        <child link="left_arm_link7"/>
        <axis xyz="0 0 1"/>
        <limit effort="20" lower="-3.141592654" upper="3.141592654" velocity="0.01"/>
    </joint>
    <link name="left_arm_end_effector_mount_link"/>
    <joint name="left_arm_end_effector_mount_joint" type="fixed">
        <origin rpy="0 0 0" xyz="0 0 0.0845"/>
        <parent link="left_arm_link7"/>
        <child link="left_arm_end_effector_mount_link"/>
        <axis xyz="0 0 0"/>
    </joint>
    <joint name="left_flange_joint" type="fixed">
        <origin rpy="0 0 2.617993878" xyz="0 0 0"/>
        <parent link="left_arm_end_effector_mount_link"/>
        <child link="left_flange_base_link"/>
    </joint>
    <link name="left_flange_base_link">
        <inertial>
            <origin rpy="0 0 0" xyz="0.052829 -0.00096484 0.013285"/>
            <mass value="1.25733"/>
            <inertia ixx="0.0002175" ixy="-2.5433E-06" ixz="4.0586E-06" iyy="5.3894E-05" iyz="-1.8533E-06"
                     izz="0.00025319"/>
        </inertial>
        <visual>
            <origin rpy="0 0 0" xyz="0 0 0"/>
            <geometry>
                <mesh filename="meshes/flange/flange_base_link.stl"/>
            </geometry>
            <material name="">
                <color rgba="1 1 1 1"/>
            </material>
        </visual>
        <collision>
            <origin rpy="0 0 0" xyz="0 0 0"/>
            <geometry>
                <mesh filename="meshes/flange/flange_base_link.stl"/>
            </geometry>
        </collision>
    </link>
    <link name="left_flange_mount_link"/>
    <joint name="left_flange_mount_joint" type="fixed">
        <origin rpy="0 0 0" xyz="0 0 0.006"/>
        <parent link="left_flange_base_link"/>
        <child link="left_flange_mount_link"/>
        <axis xyz="0 0 0"/>
    </joint>
    <joint name="left_arm_camera_joint" type="fixed">
        <origin rpy="3.1415926 -1.308996939 0" xyz="0.0526 -0.02 0.02054"/>
        <parent link="left_flange_base_link"/>
        <child link="left_arm_camera_flange_link"/>
    </joint>
    <link name="left_arm_camera_flange_link">
        <inertial>
            <origin rpy="0 0 0" xyz="0.052829 -0.00096484 0.013285"/>
            <mass value="0.25733"/>
            <inertia ixx="0.0002175" ixy="-2.5433E-06" ixz="4.0586E-06" iyy="5.3894E-05" iyz="-1.8533E-06"
                     izz="0.00025319"/>
        </inertial>
        <visual>
            <origin rpy="0 0 0" xyz="0 0 0"/>
            <geometry>
                <mesh filename="meshes/camera/arm_camera.stl"/>
            </geometry>
            <material name="">
                <color rgba="1 1 1 1"/>
            </material>
        </visual>
        <collision>
            <origin rpy="0 0 0" xyz="0 0 0"/>
            <geometry>
                <mesh filename="meshes/camera/arm_camera.stl"/>
            </geometry>
        </collision>
    </link>
    <joint name="left_gripper_joint" type="fixed">
        <origin rpy="0 0 0" xyz="0 0 0"/>
        <parent link="left_flange_mount_link"/>
        <child link="left_gripper_base_link"/>
    </joint>
    <link name="left_gripper_base_link">
        <inertial>
            <origin rpy="0 0 0" xyz="0.0875969515032359 -0.000593766922509439 -0.000273353044587243"/>
            <mass value="0.229646651659589"/>
            <inertia ixx="8.60029243295527E-05" ixy="2.00063024143341E-06" ixz="2.85398505671959E-06"
                     iyy="7.73254340691918E-05" iyz="-1.0856442426917E-07" izz="9.78281466602487E-05"/>
        </inertial>
        <visual>
            <origin rpy="0 0 0" xyz="0 0 0.07"/>
            <!--      <geometry>-->
            <!--        <mesh filename="meshes/gripper/gripper_hitbot_base_link.stl"/>-->
            <!--      </geometry>-->
            <geometry>
                <box size="0.043 0.05 0.14"/>
            </geometry>
            <material name="">
                <color rgba="1 1 1 1"/>
            </material>
        </visual>
        <collision>
            <origin rpy="0 0 0" xyz="0 0 0.07"/>
            <!--      <geometry>-->
            <!--        <mesh filename="meshes/gripper/gripper_hitbot_base_link.stl"/>-->
            <!--      </geometry>-->
            <geometry>
                <box size="0.043 0.05 0.14"/>
            </geometry>
        </collision>
    </link>
    <link name="left_gripper_left_link">
        <inertial>
            <origin rpy="0 0 0" xyz="-0.0231481638496937 -4.90112376816481E-07 -0.000267991935875532"/>
            <mass value="0.00675449578859124"/>
            <inertia ixx="3.19945619554153E-07" ixy="-7.76829664652689E-12" ixz="-3.91342467850705E-07"
                     iyy="1.5976052028241E-06" iyz="2.16781299849398E-11" izz="1.50158040800935E-06"/>
        </inertial>
        <visual>
            <origin rpy="0 0 0" xyz="0 0 0"/>
            <geometry>
                <mesh filename="meshes/gripper/gripper_hitbot_left_link.stl"/>
            </geometry>
            <material name="">
                <color rgba="1 1 1 1"/>
            </material>
        </visual>
        <collision>
            <origin rpy="0 0 0" xyz="0 0 0"/>
            <geometry>
                <mesh filename="meshes/gripper/gripper_hitbot_left_link.stl"/>
            </geometry>
        </collision>
    </link>
    <joint name="left_gripper_left_joint" type="prismatic">
        <origin rpy="1.5707963267948966 0 3.141592653589793" xyz="0 0 0.21579"/>
        <parent link="left_gripper_base_link"/>
        <child link="left_gripper_left_link"/>
        <axis xyz="0 0 1"/>
        <limit effort="2" lower="0.005" upper="0.05" velocity="0.045"/>
    </joint>
    <link name="left_gripper_right_link">
        <inertial>
            <origin rpy="0 0 0" xyz="-0.0231481638496943 -4.90112376734401E-07 -0.000267991935824489"/>
            <mass value="0.00675449578859123"/>
            <inertia ixx="3.19945619552427E-07" ixy="-7.76829655500751E-12" ixz="-3.91342467848098E-07"
                     iyy="1.5976052028241E-06" iyz="2.16781300075729E-11" izz="1.50158040801108E-06"/>
        </inertial>
        <visual>
            <origin rpy="0 0 0" xyz="0 0 0"/>
            <geometry>
                <mesh filename="meshes/gripper/gripper_hitbot_right_link.stl"/>
            </geometry>
            <material name="">
                <color rgba="1 1 1 1"/>
            </material>
        </visual>
        <collision>
            <origin rpy="0 0 0" xyz="0 0 0"/>
            <geometry>
                <mesh filename="meshes/gripper/gripper_hitbot_right_link.stl"/>
            </geometry>
        </collision>
    </link>
    <joint name="left_gripper_right_joint" type="prismatic">
        <origin rpy="-1.5707963267948966 0 -3.141592653589793" xyz="0 0 0.21579"/>
        <parent link="left_gripper_base_link"/>
        <child link="left_gripper_right_link"/>
        <axis xyz="0 0 1"/>
        <limit effort="2" lower="0.005" upper="0.05" velocity="0.045"/>
        <!-- mimic not supported in isaac sim 2023.1.0-hotfix  -->
        <!-- <mimic joint="${name}_left_joint" multiplier="-1" offset="0" /> -->
    </joint>
    <!-- Tool Center Point -->
    <link name="left_gripper_tcp_link"/>
    <joint name="tcp_joint" type="fixed">
        <origin rpy="0 0 0" xyz="0 0 0.21579"/>
        <parent link="left_gripper_base_link"/>
        <child link="left_gripper_tcp_link"/>
        <axis xyz="0 0 0"/>
    </joint>
</robot>
